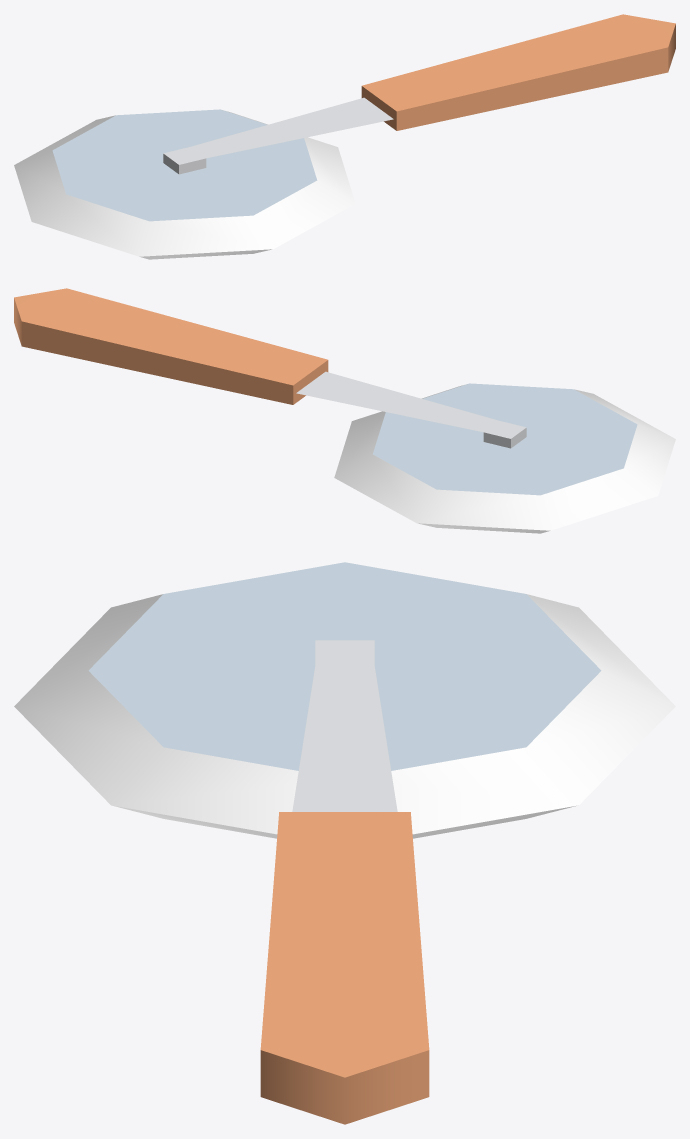
File: Pizza Cutter.glb
3 views of the same model, one above another, from view 1: azimuth 30°, elevation 25°; view 2: azimuth 150°, elevation 25°; view 3: azimuth 270°, elevation 25° (orthographic). The views are drawn at different scales.
Parts seen in each view (by area): view 1: pizzaCutter; view 2: pizzaCutter; view 3: pizzaCutter.
Part boxes in pixels (x1,y1,x2,y2): pizzaCutter: (14,14,675,259); pizzaCutter: (14,288,675,533); pizzaCutter: (14,562,675,1124).
Size of the model in its own units: 0.536 by 0.0556 by 0.2549.
